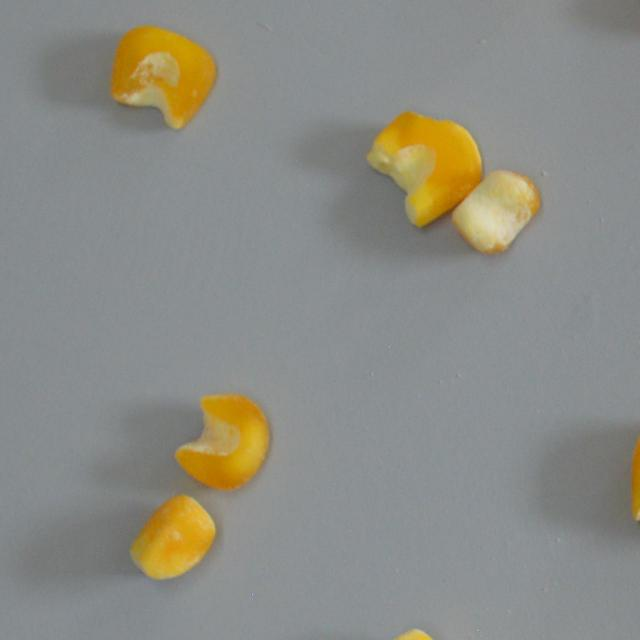dañado: (360, 103, 487, 232), (105, 22, 219, 136), (172, 388, 278, 492), (126, 493, 219, 582), (624, 407, 640, 549)
no_desgerminado: (446, 162, 546, 260)
pelicula: (358, 626, 474, 640)
